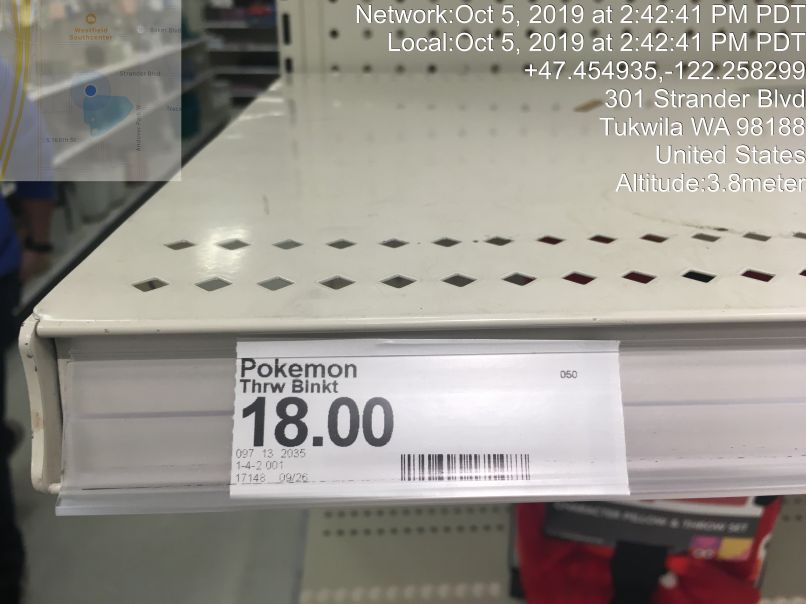Label: (225, 329, 640, 500)
Location: (596, 84, 806, 173)
Time: (348, 1, 806, 60)
Void: (183, 32, 783, 280)
